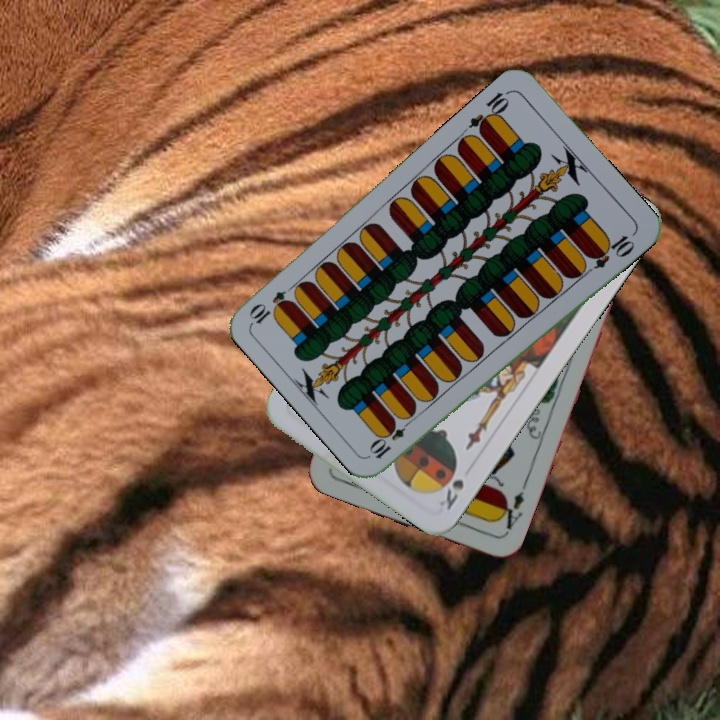E10: (366, 413, 416, 462), (465, 86, 513, 137)
EA: (493, 487, 527, 537)
SK: (434, 463, 467, 513)
